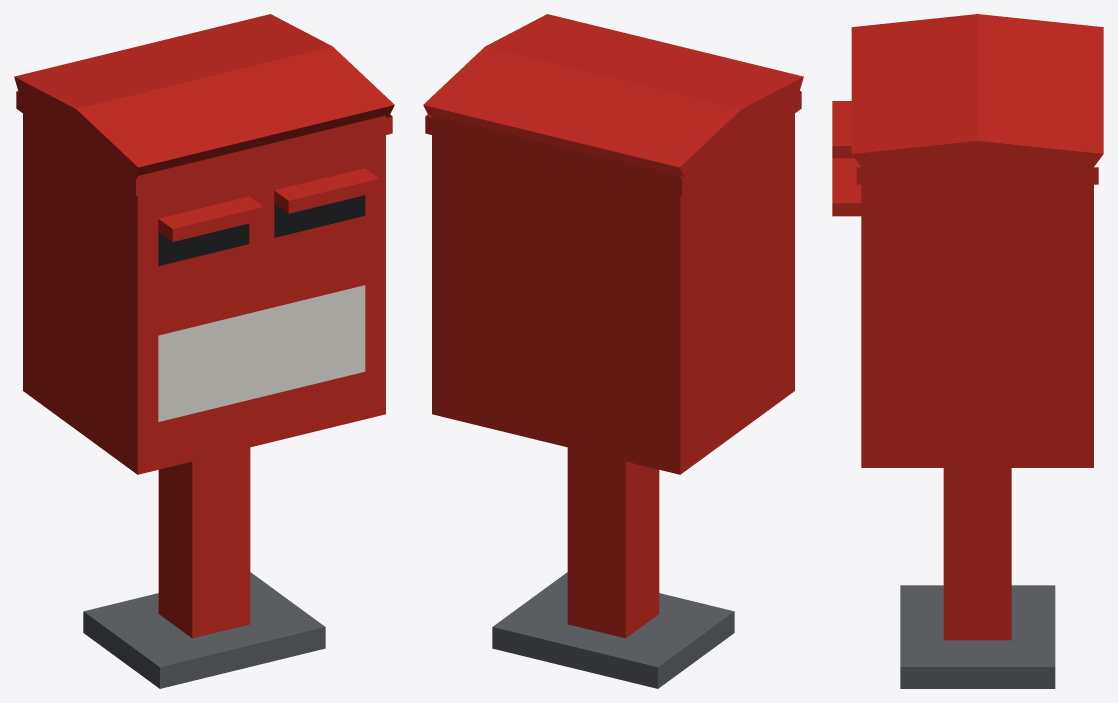
File: tokyo_mailbox.glb
The picture shows the model from 3 angles, left to right: view 1: azimuth 30°, elevation 25°; view 2: azimuth 150°, elevation 25°; view 3: azimuth 270°, elevation 25°; orthographic projection.
Parts seen in each view (by area): view 1: tokyo_mailbox; view 2: tokyo_mailbox; view 3: tokyo_mailbox.
Part boxes in pixels (bbox=[...]): tokyo_mailbox: bbox=[14, 14, 394, 688]; tokyo_mailbox: bbox=[423, 14, 803, 688]; tokyo_mailbox: bbox=[832, 14, 1103, 688].
Size of the model in its own units: 0.62 by 1.3 by 0.56.
1 material, 1 textured.
